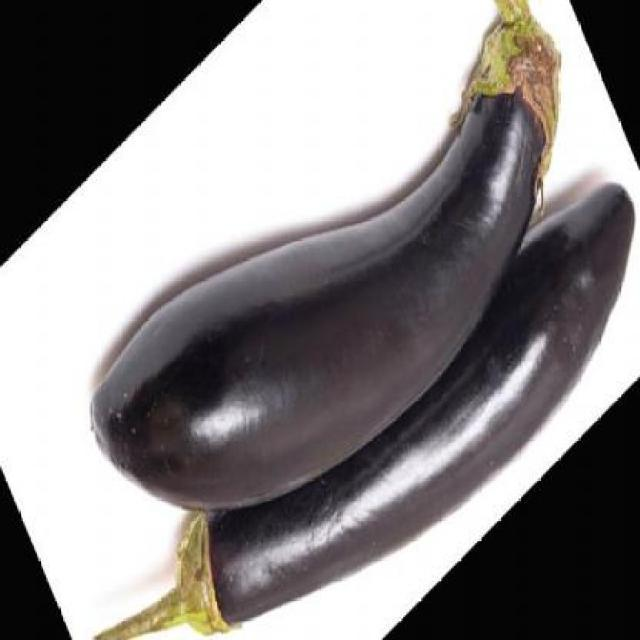eggplant: (80, 158, 635, 638), (84, 0, 574, 525)
